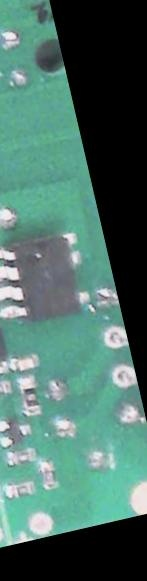chip-capacitor: (5, 349, 41, 374)
chip-resistor: (14, 375, 42, 418), (2, 444, 37, 468), (2, 479, 37, 501), (35, 457, 58, 490)
ic: (0, 224, 94, 330)
transistor: (0, 411, 35, 451)
